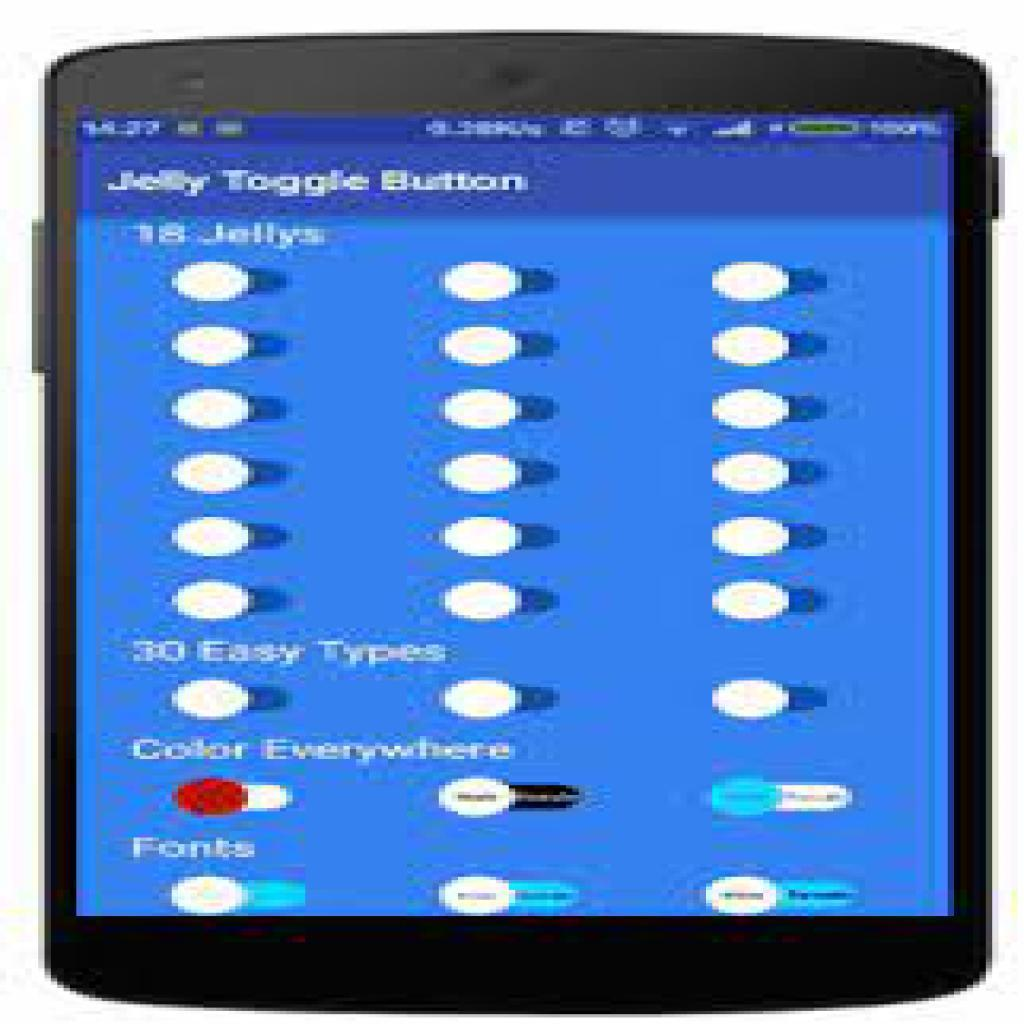label: (107, 166, 530, 197), (136, 637, 446, 671), (136, 739, 517, 763), (121, 221, 333, 248), (128, 834, 258, 865)
switch: (437, 778, 587, 821), (710, 777, 853, 821), (708, 877, 861, 918), (704, 259, 832, 306), (435, 452, 563, 498), (712, 678, 832, 727), (704, 326, 833, 371), (170, 875, 308, 916), (172, 452, 294, 498), (170, 678, 291, 724), (438, 876, 576, 916), (439, 388, 561, 433), (710, 450, 829, 496), (441, 326, 565, 370), (171, 517, 291, 562), (170, 260, 295, 303), (169, 582, 294, 625), (712, 581, 826, 628), (440, 679, 561, 723), (443, 580, 566, 623), (443, 515, 565, 558), (169, 389, 288, 433), (171, 326, 287, 371), (709, 518, 829, 561), (711, 391, 830, 434), (440, 263, 564, 303), (171, 779, 295, 817)
